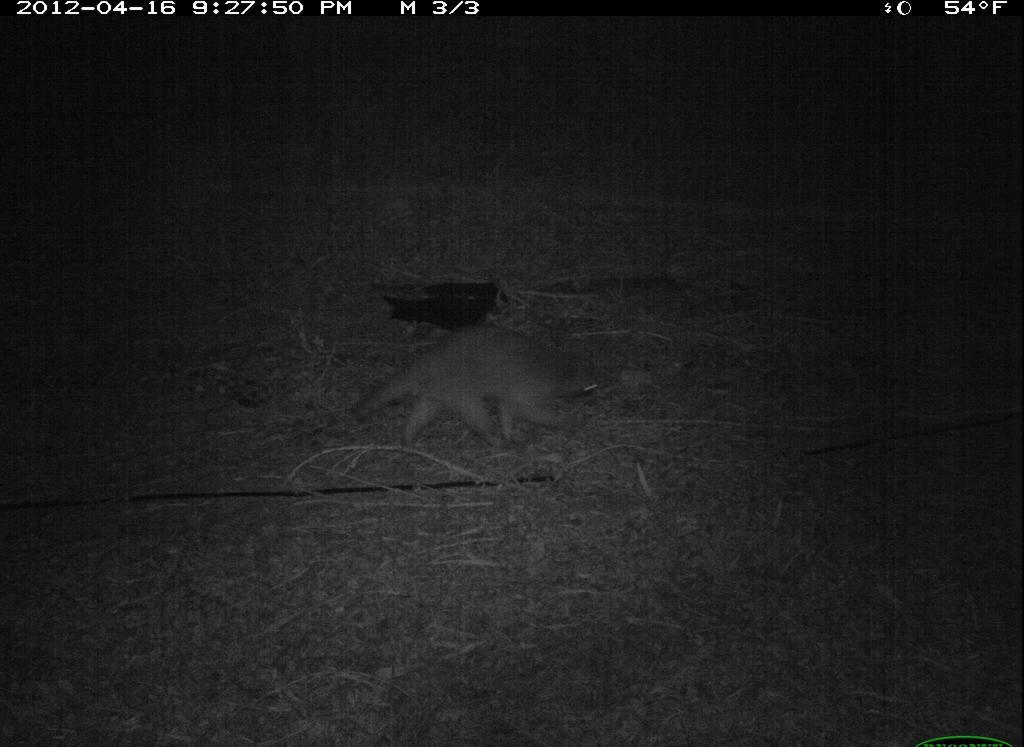raccoon: (345, 314, 615, 466)
